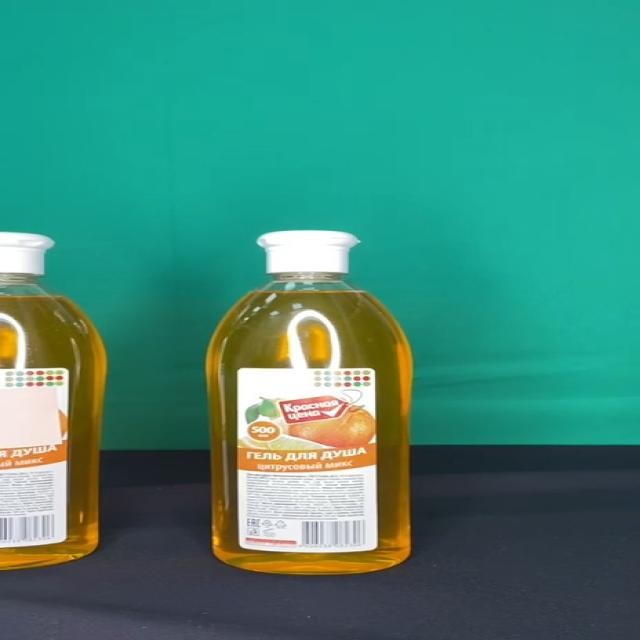Bottle: (204, 230, 416, 574)
Cap: (256, 230, 359, 274)
